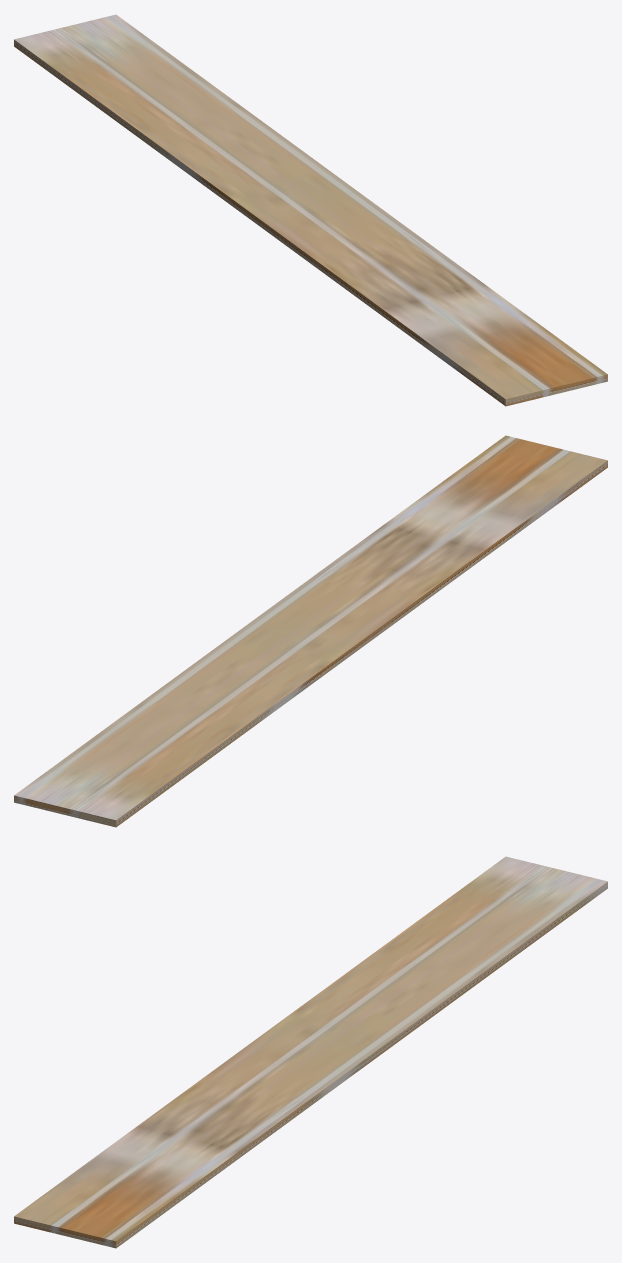
The model's file is road4.fbx.
The picture shows the model from 3 angles, top to bottom: view 1: azimuth 30°, elevation 25°; view 2: azimuth 150°, elevation 25°; view 3: azimuth 330°, elevation 25°; orthographic projection.
Parts seen in each view (by area): view 1: pCube2; view 2: pCube2; view 3: pCube2.
Boxes of the visible parts, box(x1,y1,x2,y2) form: pCube2: box(14, 14, 607, 406); pCube2: box(14, 435, 607, 827); pCube2: box(14, 856, 607, 1248).
Bounding box in the file's own units: 3 × 0.2 × 25.
1 material, 1 textured.
